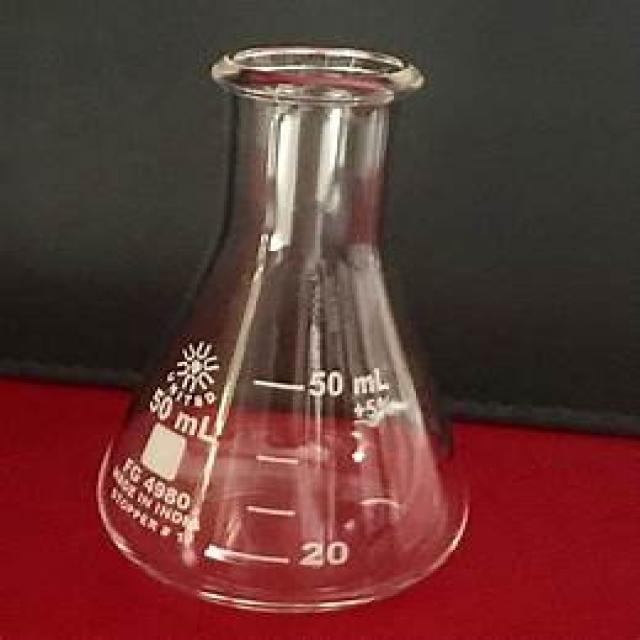Titrarion: (100, 34, 470, 613)
